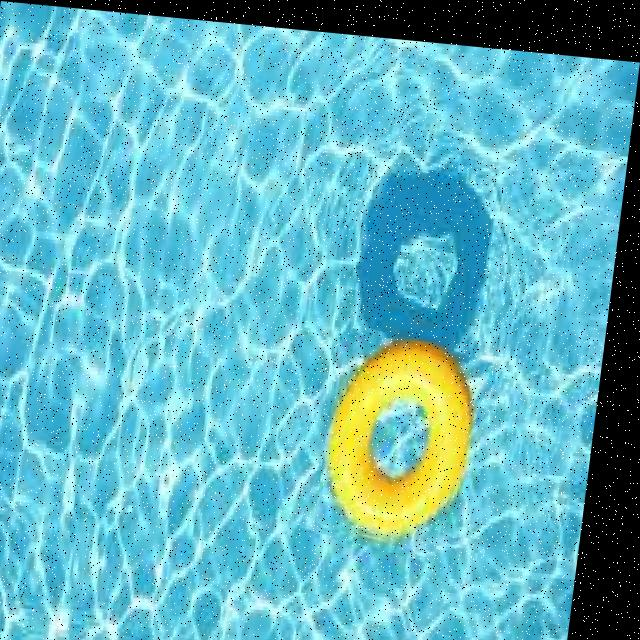lifesaver: (332, 329, 479, 523)
